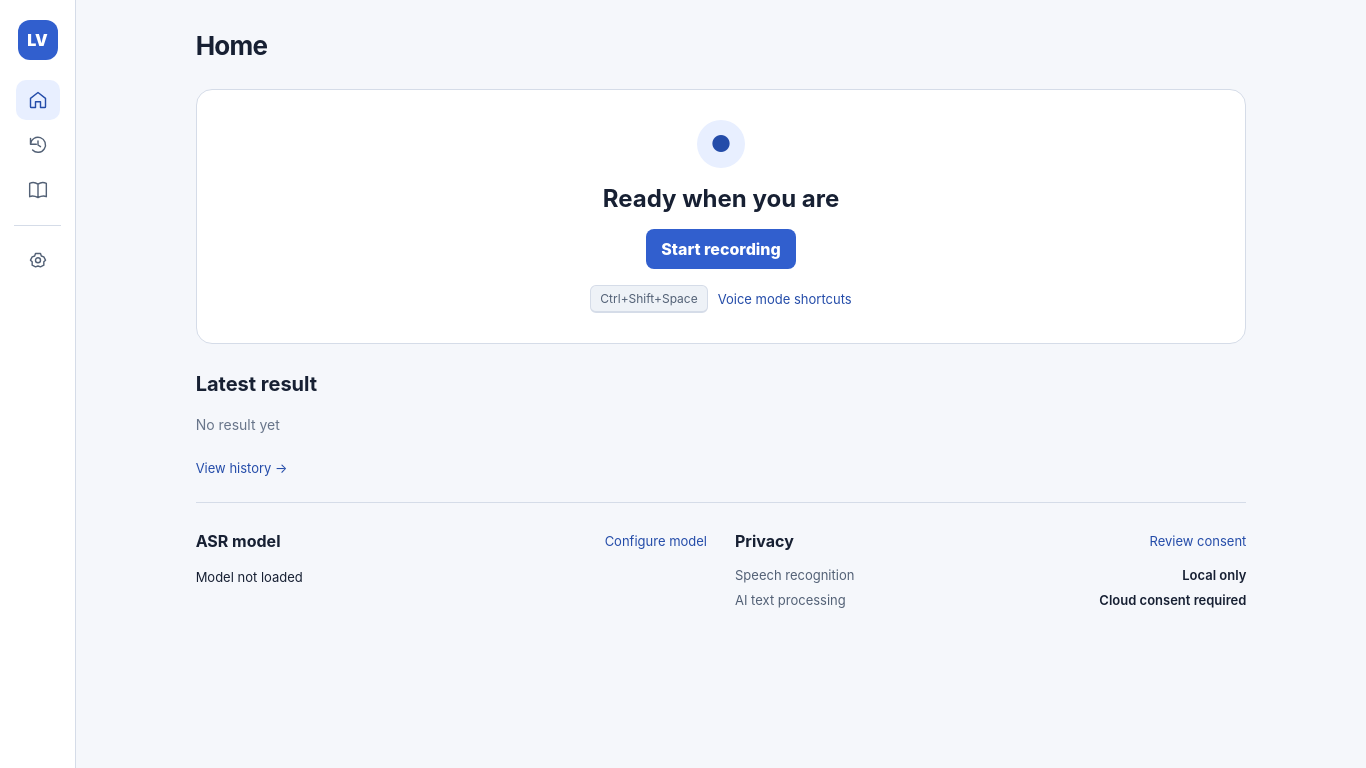
a newer visible-page refresh wins over a delayed earlier dictionary response
Click the button named "Settings". click: point(38, 261)
box: [16, 241, 60, 281]
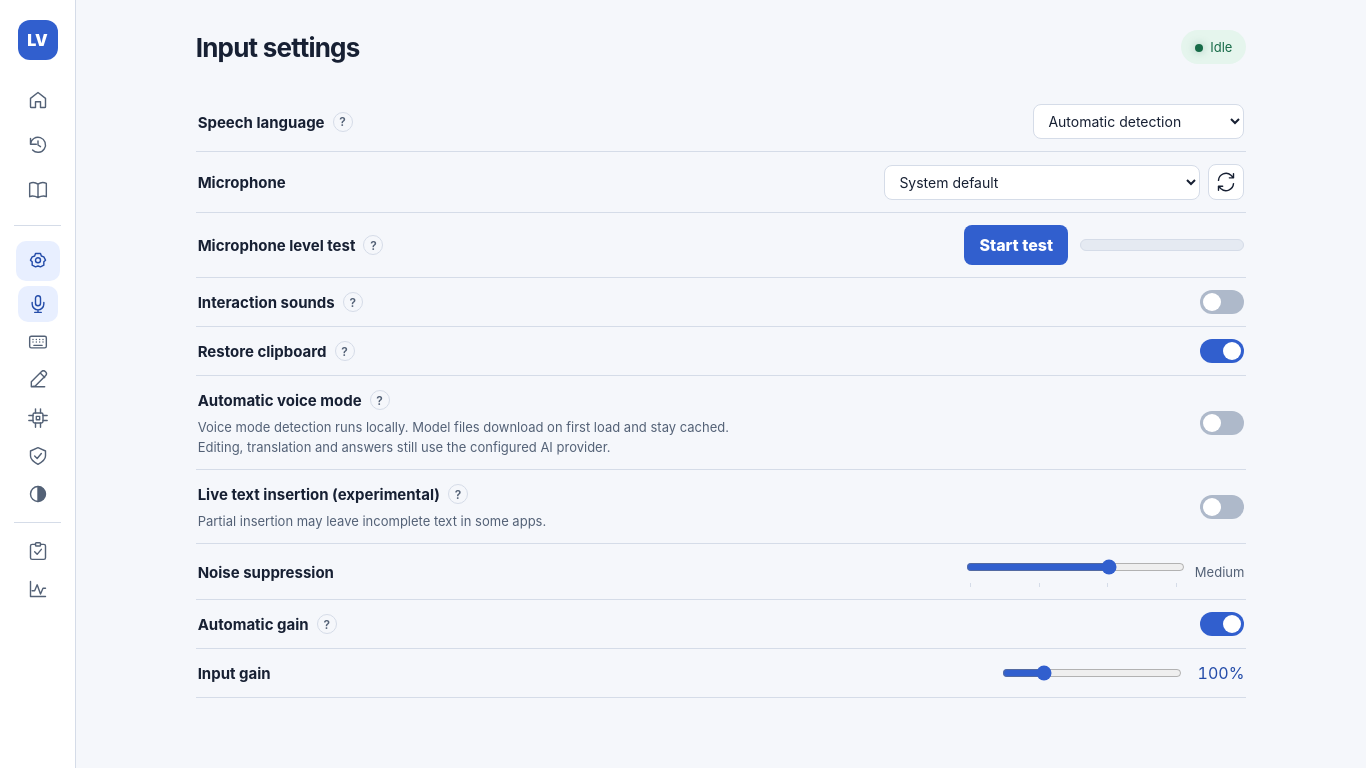
Click the button named "Dictionary". click: point(38, 190)
box: [16, 170, 60, 210]
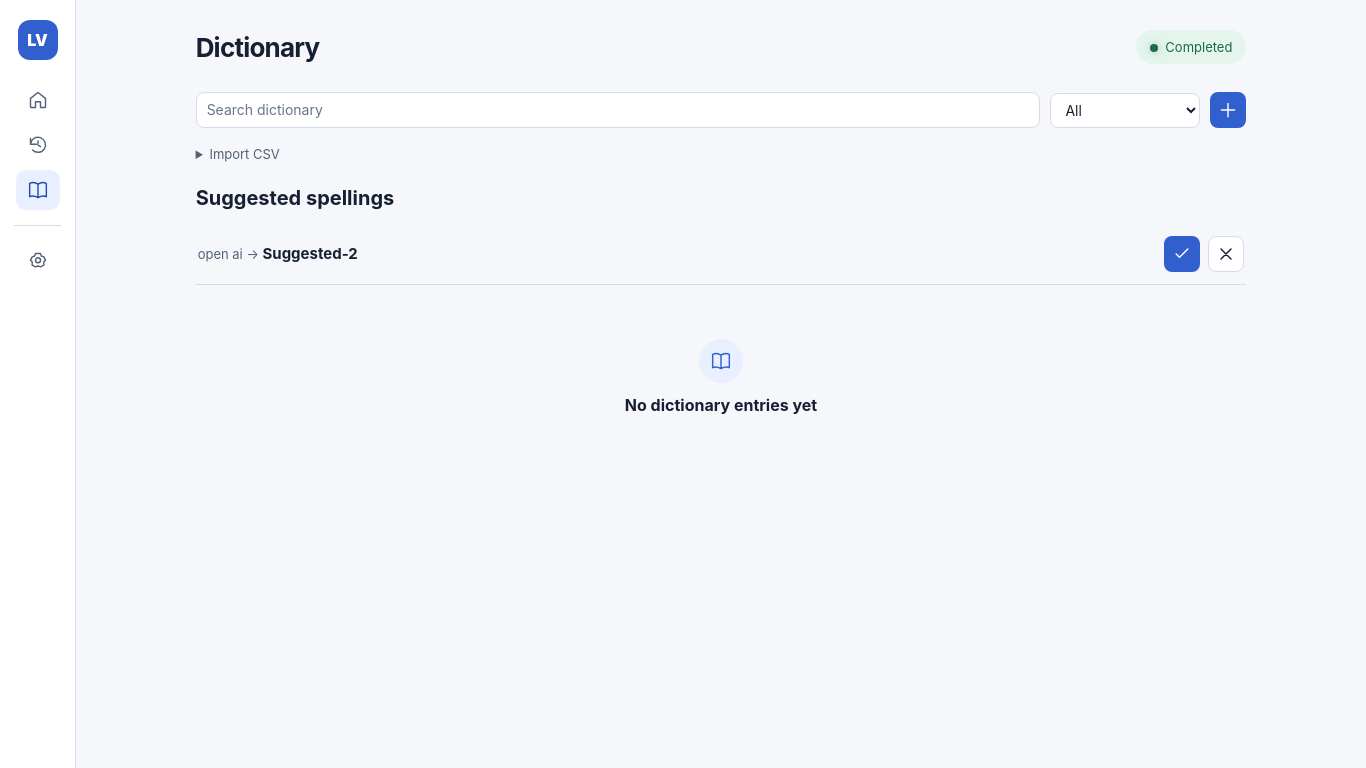
Result: the text "Suggested-2" is shown at [262, 244, 358, 263]
